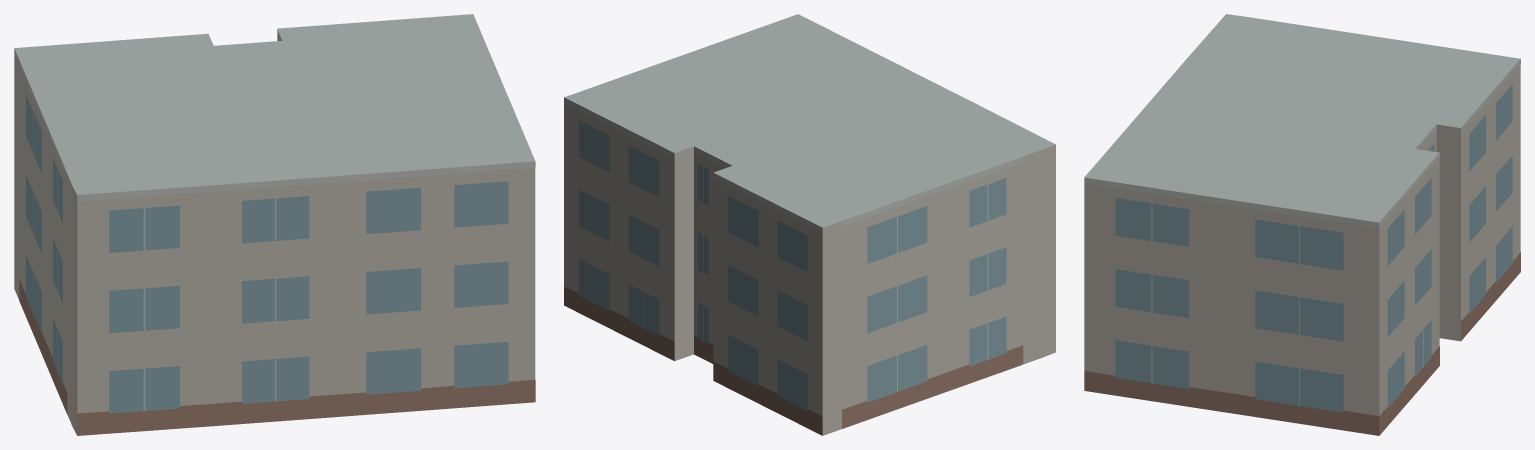
File: survey-upis-32699853.glb
The picture shows the model from 3 angles, left to right: view 1: azimuth 30°, elevation 25°; view 2: azimuth 150°, elevation 25°; view 3: azimuth 270°, elevation 25°; orthographic projection. The views are drawn at different scales.
Parts seen in each view (by area): view 1: survey-upis-32699853.tmp; view 2: survey-upis-32699853.tmp; view 3: survey-upis-32699853.tmp.
Boxes of the visible parts, x1,y1,x2,y2 form: survey-upis-32699853.tmp: (14,14,535,435); survey-upis-32699853.tmp: (564,14,1055,435); survey-upis-32699853.tmp: (1084,14,1520,435).
Bounding box in the file's own units: 19.19 × 9.15 × 16.98.
